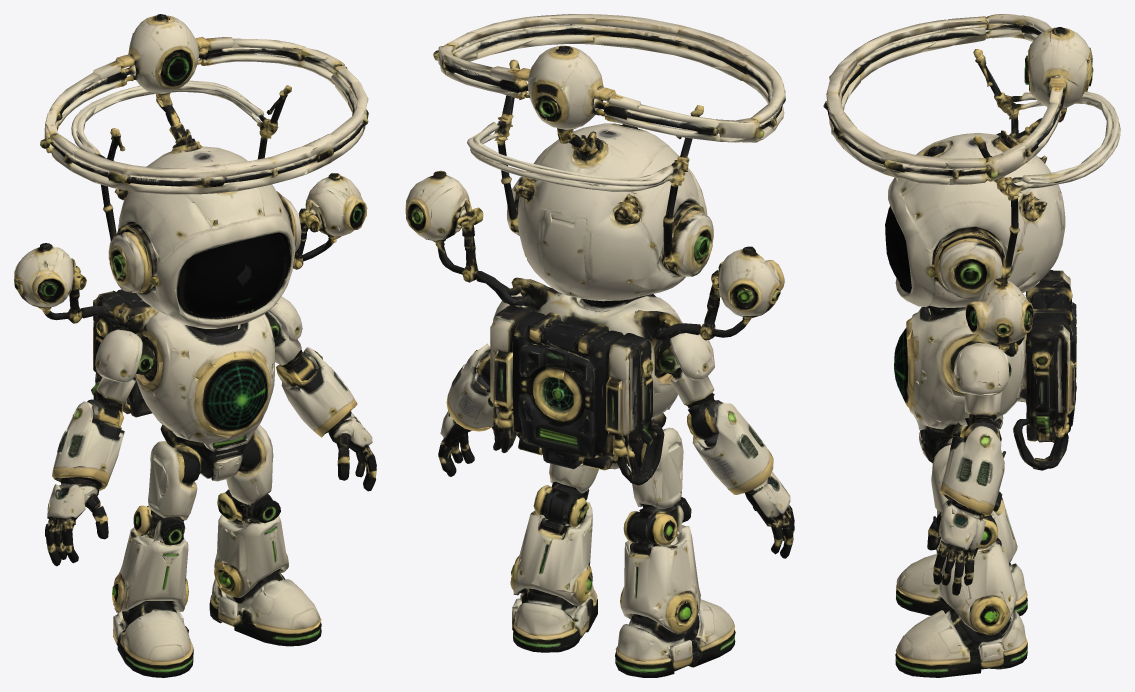
File: prover-model-candidate-01.glb
The picture shows the model from 3 angles, left to right: view 1: azimuth 30°, elevation 25°; view 2: azimuth 150°, elevation 25°; view 3: azimuth 270°, elevation 25°; orthographic projection. The views are drawn at different scales.
Size of the model in its own units: 1.23 by 2 by 0.892.
Materials: 1 (1 with a texture image).
